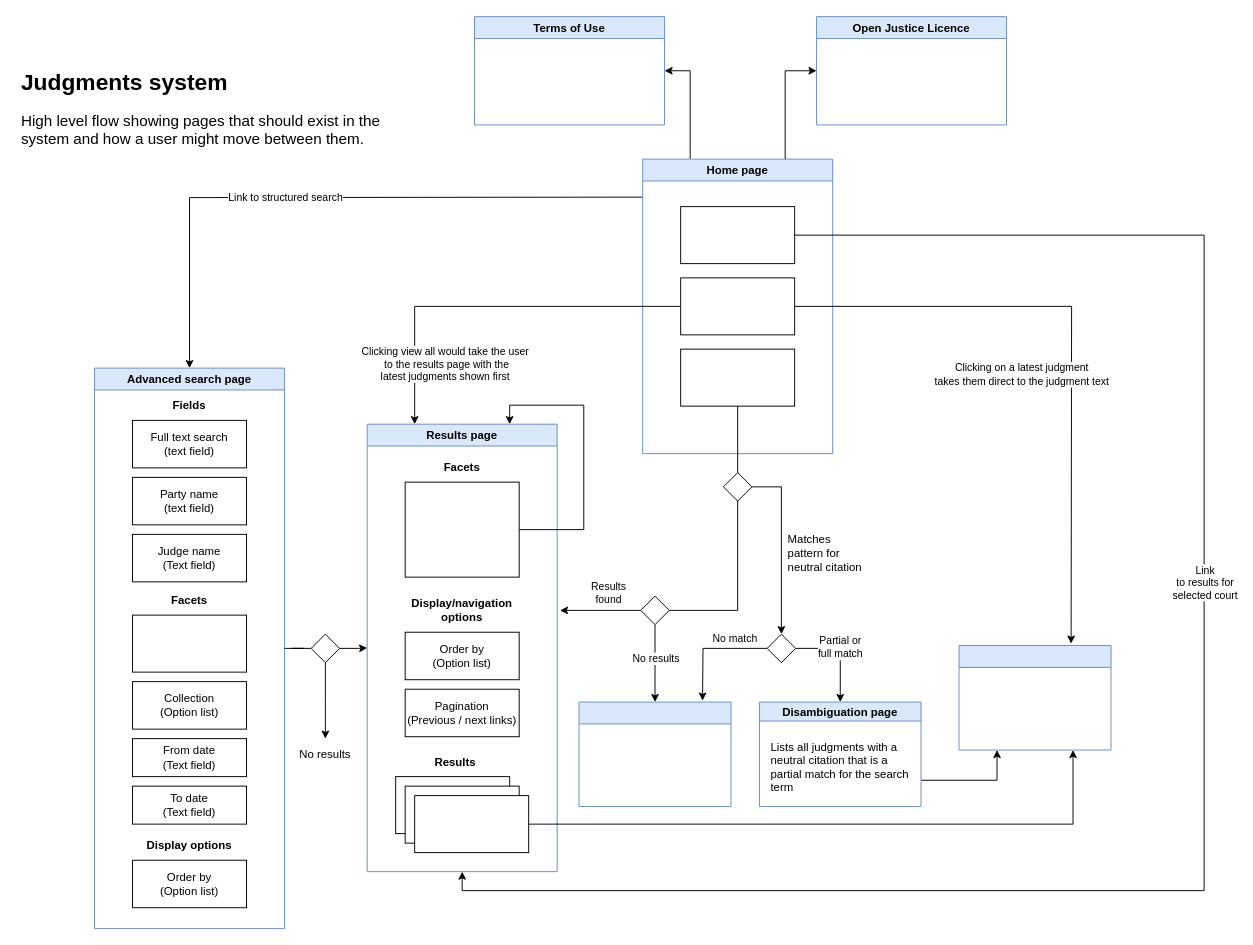
Some shapes in this 1253 by 945 pixel diagram are drawn without their labels. Here are the shapes that lost their labels. From the top down, the centre of each, then its label:
At pixel 737 235: "Browse by court".
At pixel 737 306: "Latest judgments (Link and view all)".
At pixel 737 377: "Search form".
At pixel 461 529: "Apply/remove refinement (replicating those available on advanced search)".
At pixel 189 643: "Court (Select with opt group)".
At pixel 1034 697: "Judgment page".
At pixel 654 754: "No results page".
At pixel 471 824: "Judgment".
